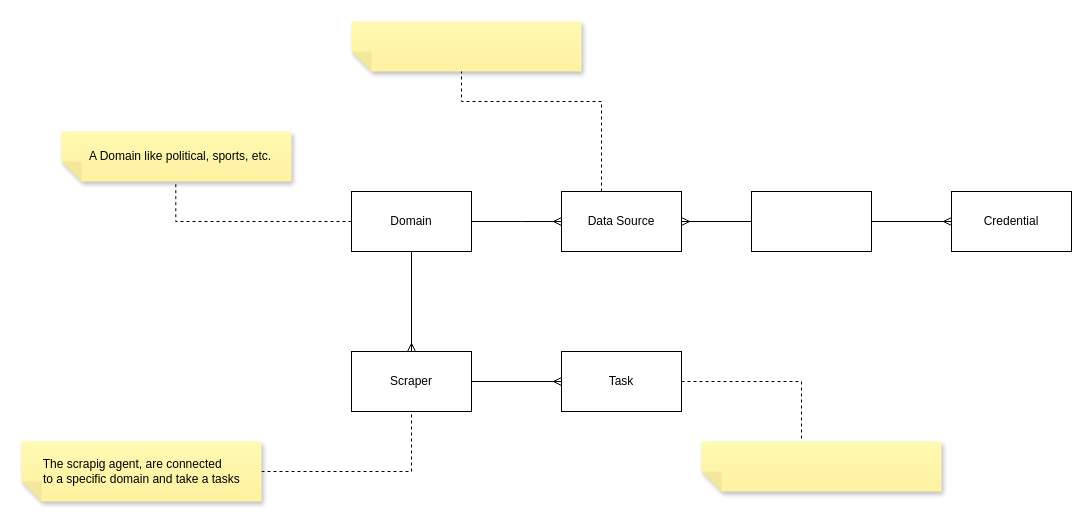
The diagram is 1089 pixels wide and 525 high, and some of its shapes have lost their labels. Here are the shapes that lost their labels. From the top down, the centre of each, then its label:
(x=467, y=47): A Data Source like channel, user, etc.
(x=811, y=221): Platform
(x=822, y=467): A Task, contain sources to scrapes and belong to a do,aon
